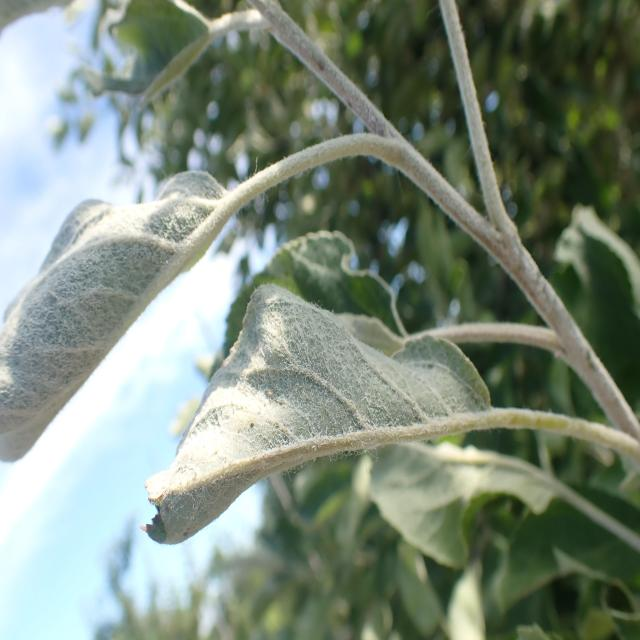Powdery_mildew: (141, 266, 494, 548), (0, 151, 231, 481), (65, 0, 232, 114)
